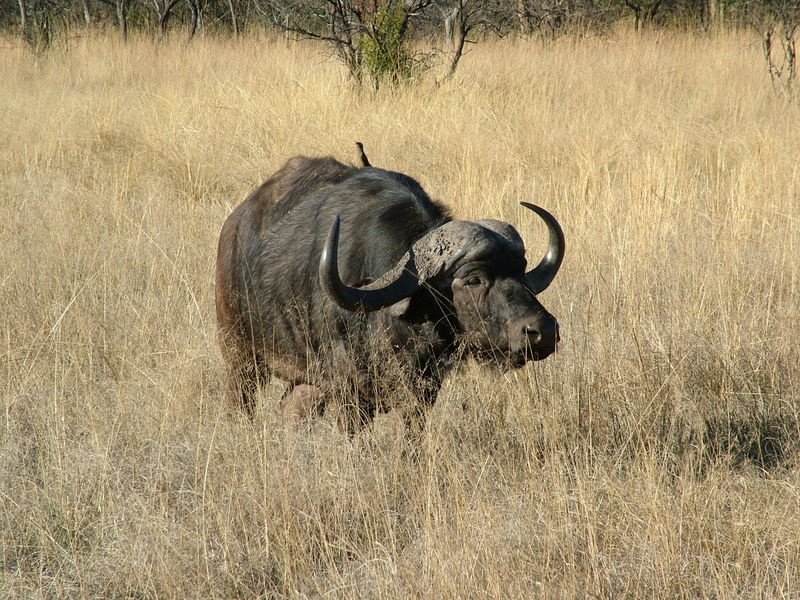buffalo: (213, 157, 565, 466)
